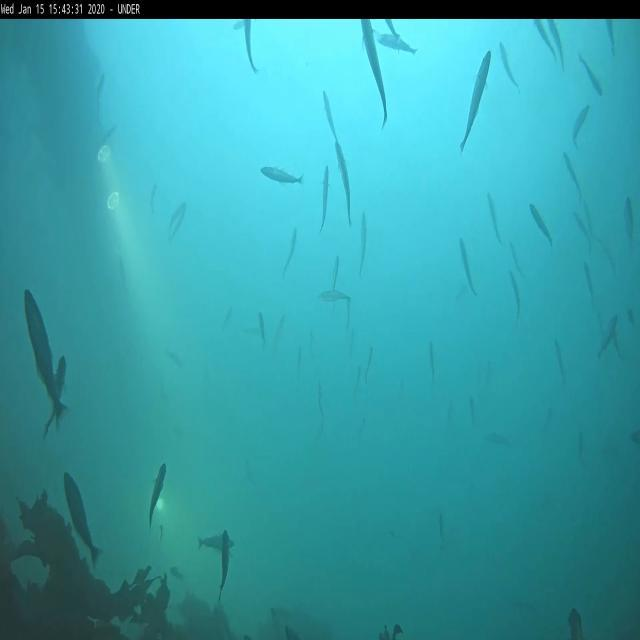fish: (24, 291, 70, 434), (64, 472, 102, 566), (460, 49, 493, 154), (361, 22, 388, 130), (44, 356, 68, 437), (339, 140, 353, 227), (578, 53, 604, 99), (150, 459, 168, 524), (534, 19, 558, 66), (597, 314, 619, 358), (500, 42, 520, 90), (547, 21, 566, 68), (167, 200, 186, 246), (572, 105, 592, 147), (572, 211, 592, 252), (530, 205, 552, 242), (460, 238, 475, 292), (488, 196, 504, 246), (377, 36, 419, 55), (282, 227, 298, 276), (564, 154, 580, 202), (197, 532, 235, 552), (263, 165, 303, 184), (219, 531, 230, 599), (322, 94, 338, 140), (244, 21, 258, 68), (552, 338, 566, 380), (321, 165, 329, 232), (359, 213, 367, 279), (510, 273, 521, 317), (624, 196, 632, 251), (584, 262, 594, 306), (606, 18, 616, 56), (319, 290, 350, 302), (276, 314, 286, 346), (429, 344, 437, 381), (366, 348, 374, 382), (260, 312, 267, 349), (386, 20, 398, 40), (584, 202, 592, 232), (168, 565, 184, 579), (332, 257, 339, 288), (354, 366, 362, 392), (469, 394, 476, 423), (150, 187, 158, 212), (318, 380, 322, 413), (628, 310, 636, 326), (298, 350, 302, 376), (233, 20, 246, 27), (347, 302, 350, 330), (160, 527, 163, 543)
